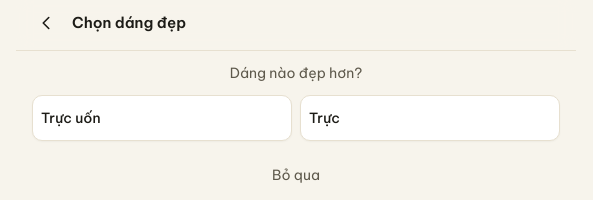
Test: Cộng đồng › chooses the nicer design and moves on
The image size is (593, 200).
Click the button with aria-label "bên phải: Trực" at coordinates (324, 118), box top-left (300, 95), bottom-right (560, 141)
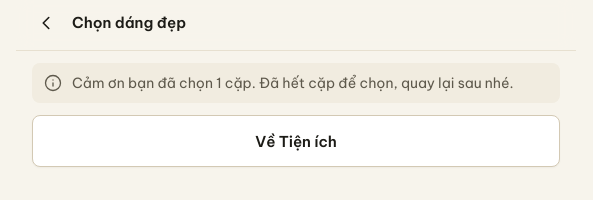
Now the text "Cảm ơn bạn đã chọn 1 cặp" is shown, box top-left (72, 74), bottom-right (259, 92)
